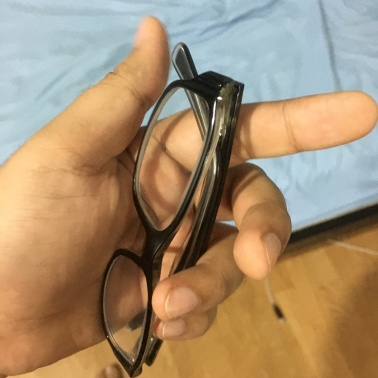glasses: (113, 58, 238, 368)
